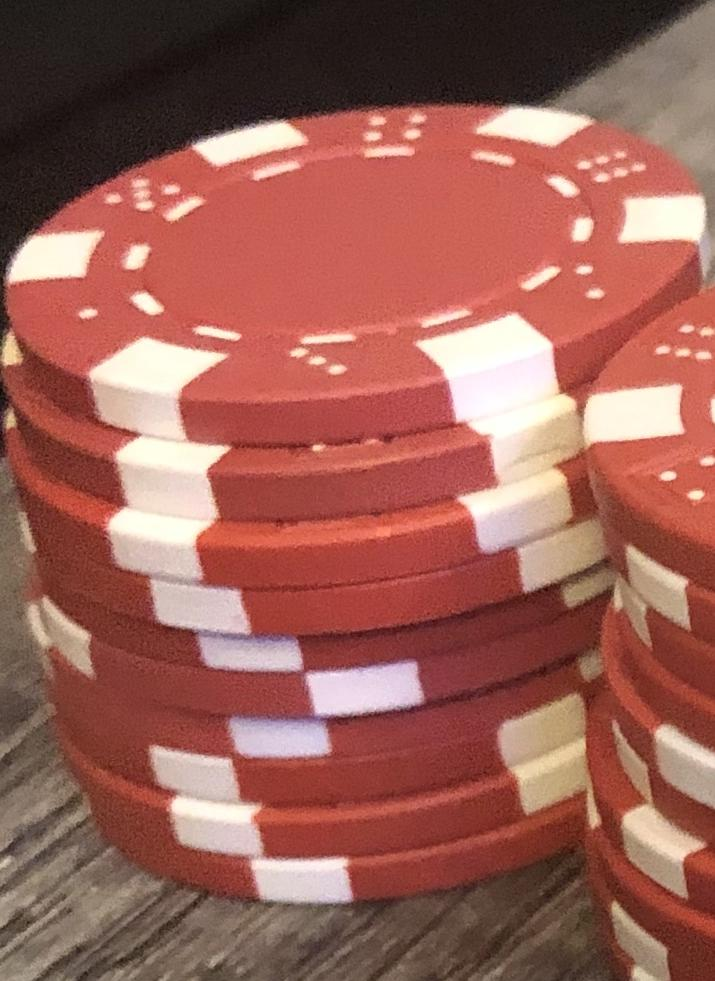Chip: (1, 1, 715, 981)
